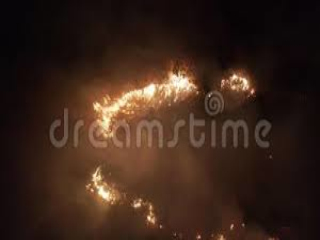fire: (87, 62, 263, 117), (85, 167, 182, 225)
